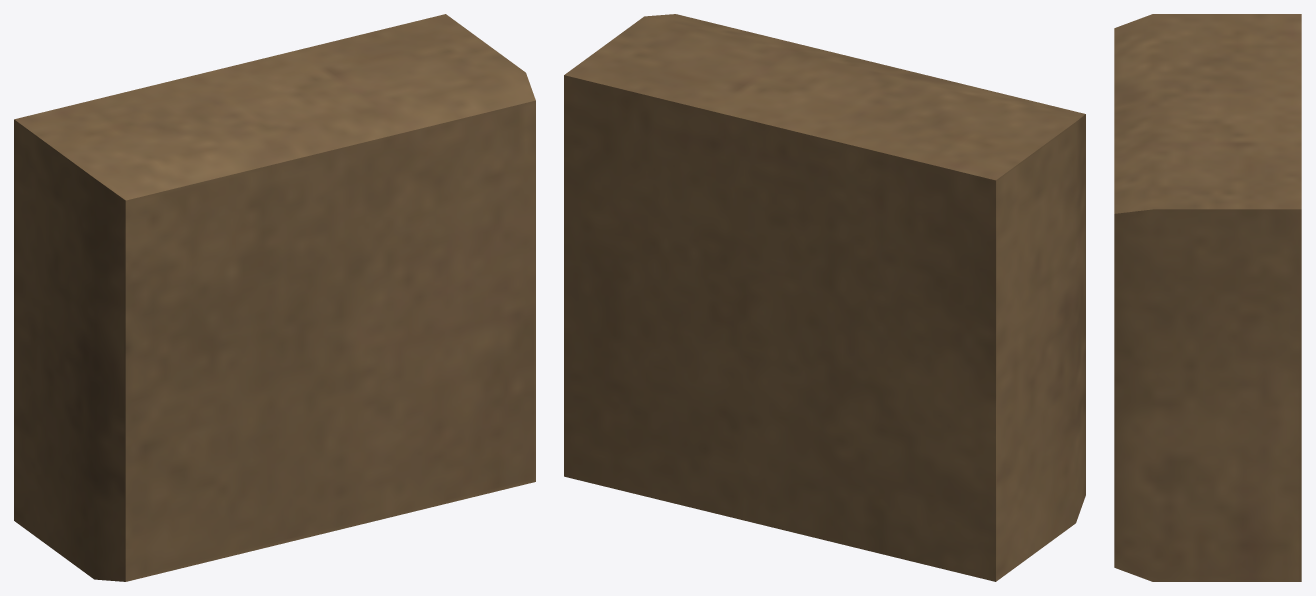
The model's file is temple button puzzle.fbx.
The picture shows the model from 3 angles, left to right: view 1: azimuth 30°, elevation 25°; view 2: azimuth 150°, elevation 25°; view 3: azimuth 270°, elevation 25°; orthographic projection. The views are drawn at different scales.
Visible parts, largest first — view 1: Cube; view 2: Cube; view 3: Cube.
Boxes of the visible parts, x1,y1,x2,y2 form: Cube: (14, 14, 535, 581); Cube: (564, 14, 1085, 581); Cube: (1114, 14, 1301, 581).
Bounding box in the file's own units: 52.17 × 46.36 × 21.11.
1 material, 1 textured.
